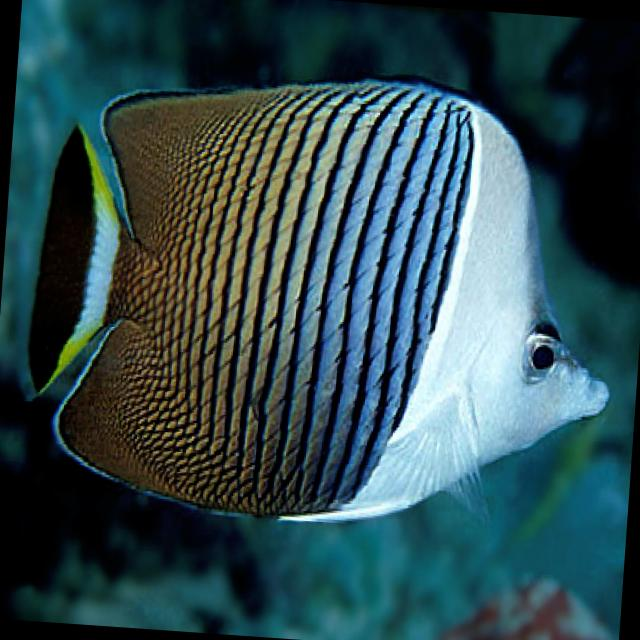ButterflyFish: (17, 49, 630, 552)
